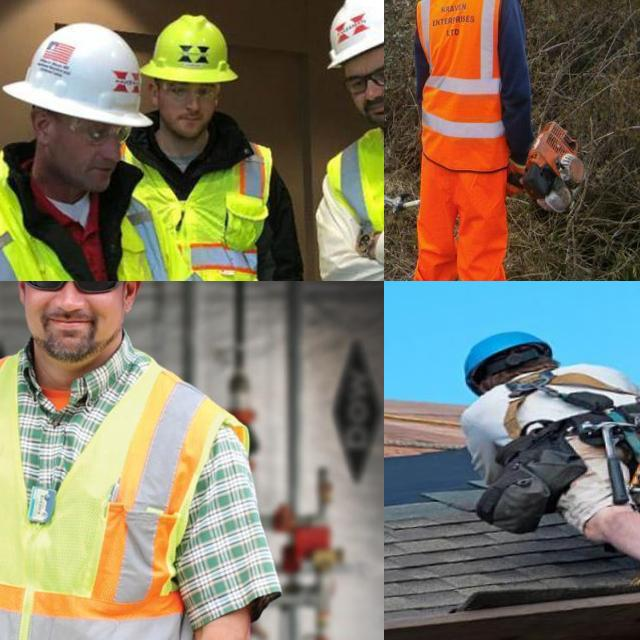Harness: (497, 370, 640, 510)
No_Ear-Protection: (27, 107, 54, 146), (146, 80, 160, 106)
face_nomask: (5, 281, 129, 367), (46, 110, 130, 202), (157, 76, 214, 149), (341, 45, 384, 120)
glasses: (67, 108, 136, 148), (158, 78, 224, 110), (338, 60, 384, 104), (18, 281, 125, 295)
head_helmet: (6, 20, 161, 130), (143, 10, 249, 81), (318, 0, 384, 54)
person: (0, 281, 249, 640), (130, 6, 309, 281), (0, 32, 192, 281), (410, 0, 533, 281), (305, 0, 384, 281)
vest: (0, 353, 199, 640), (110, 131, 274, 281), (0, 182, 209, 281), (415, 0, 513, 169), (320, 98, 384, 281)
